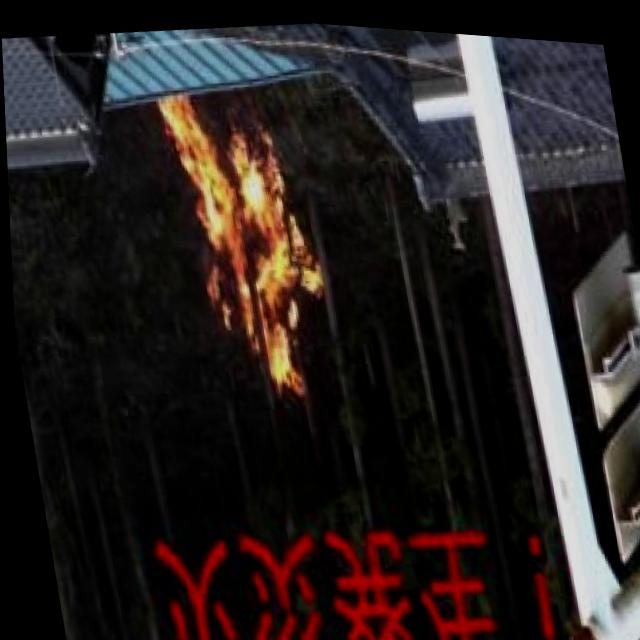helmet: (143, 71, 350, 431)
